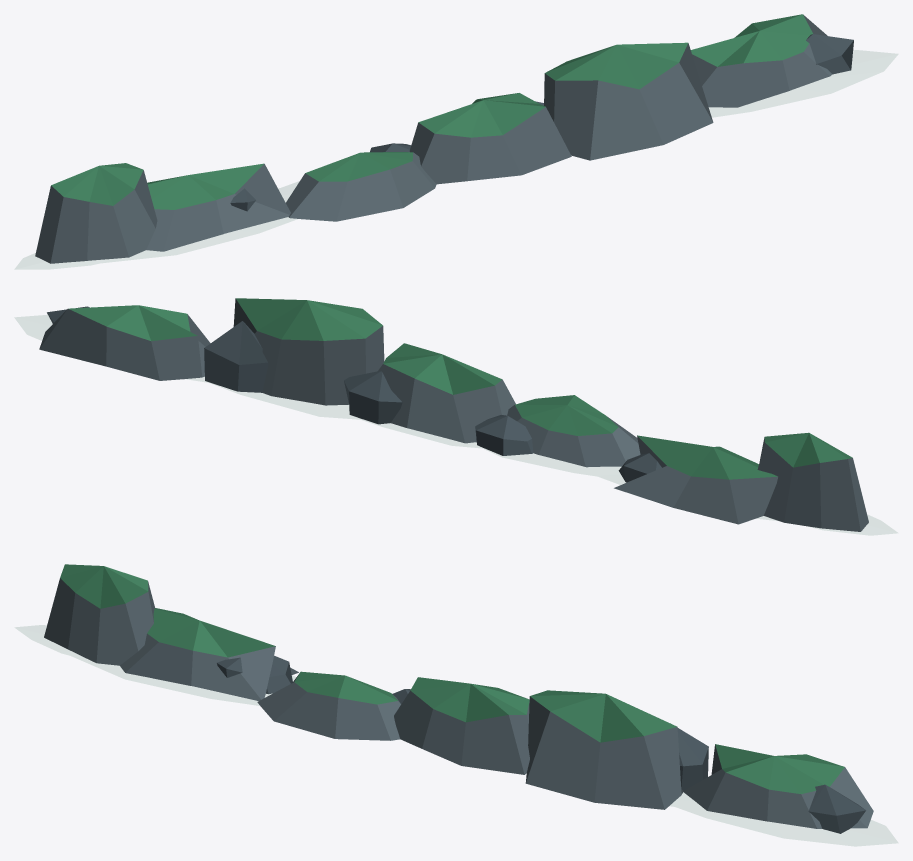
Rendered from W2_Far_Islands.fbx.
3 views of the same model, one above another, from view 1: azimuth 30°, elevation 25°; view 2: azimuth 150°, elevation 25°; view 3: azimuth 330°, elevation 25° (orthographic).
Visible parts, largest first — view 1: W2_Far_Islands; view 2: W2_Far_Islands; view 3: W2_Far_Islands.
Boxes of the visible parts, left/top/right/bottom form: W2_Far_Islands: left=14, top=14, right=898, bottom=269; W2_Far_Islands: left=14, top=298, right=898, bottom=535; W2_Far_Islands: left=14, top=564, right=898, bottom=846.
Size of the model in its own units: 671 by 60.48 by 86.4.
